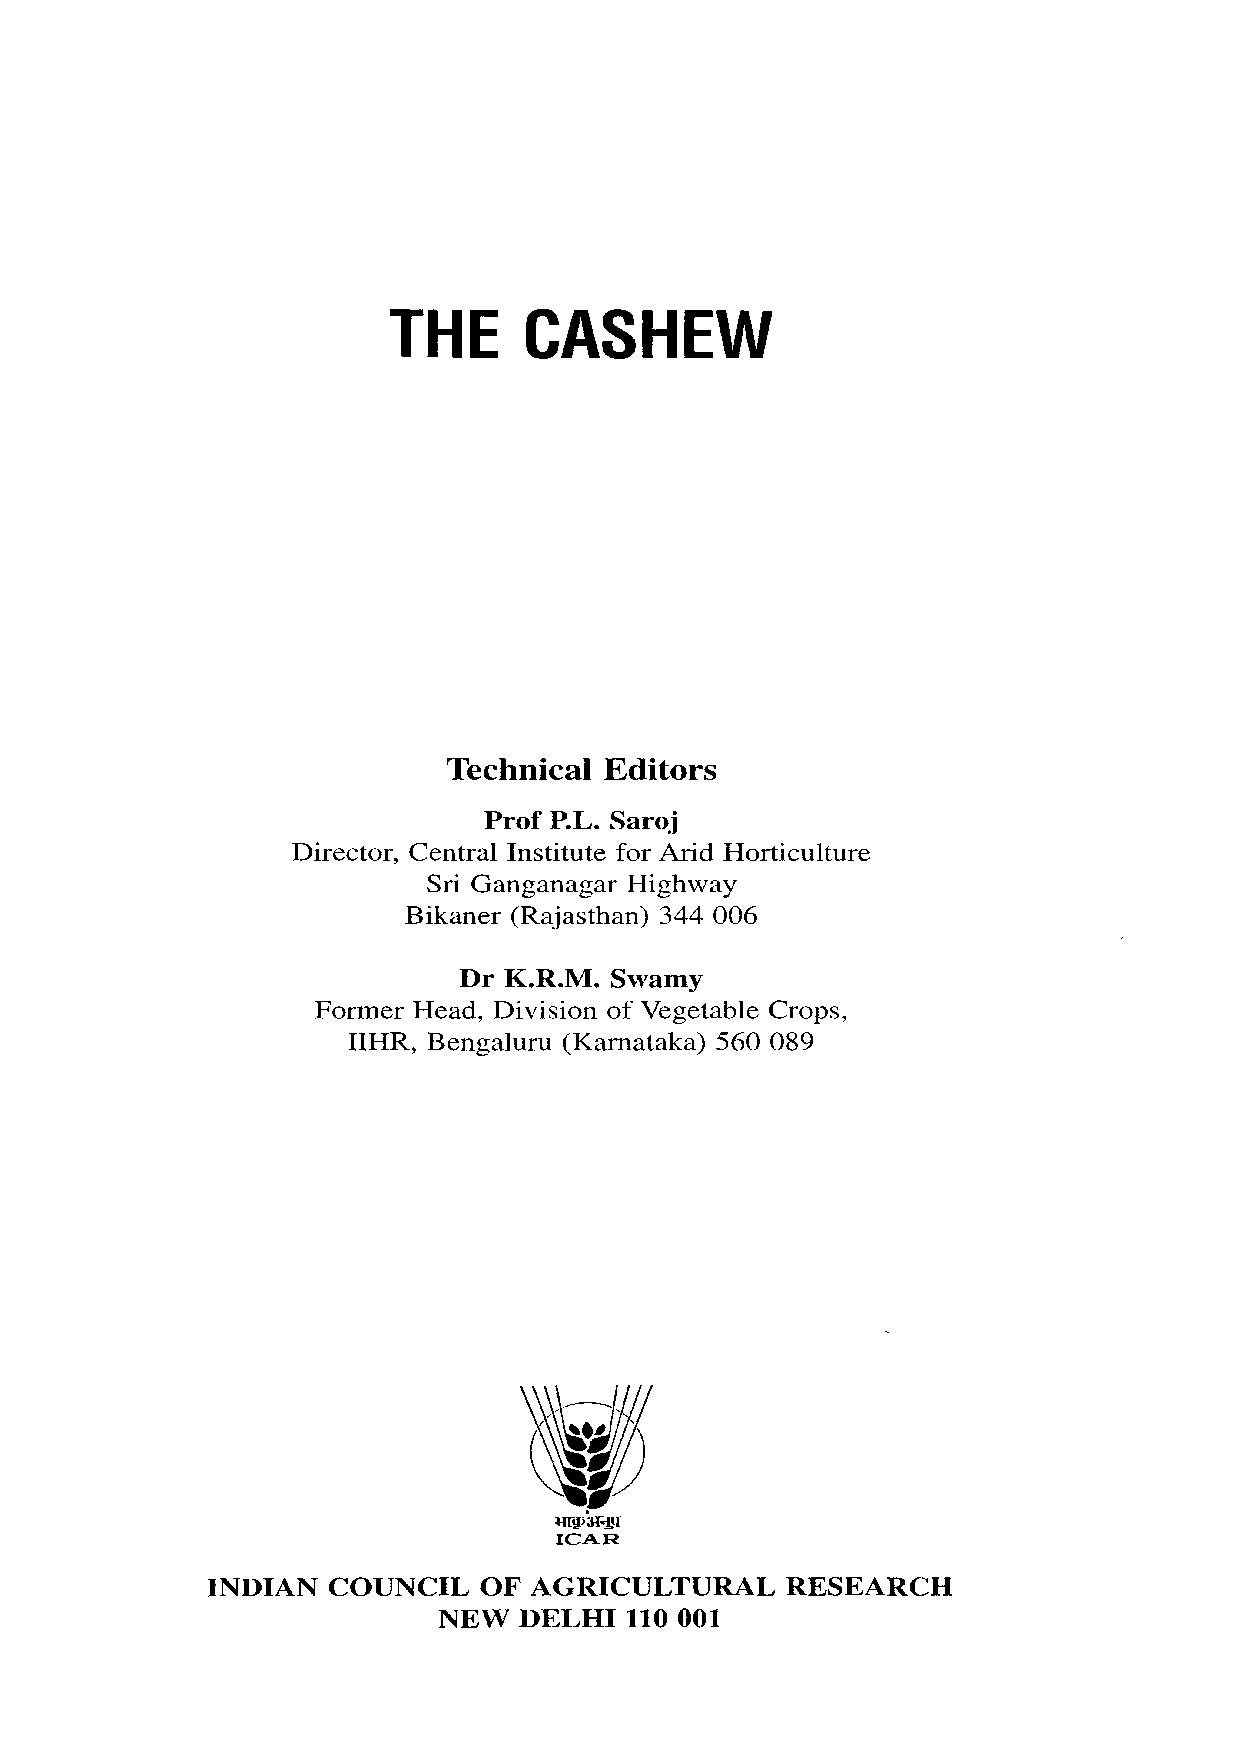author: (456, 964, 705, 994), (476, 804, 680, 836)
title: (380, 301, 776, 361)
